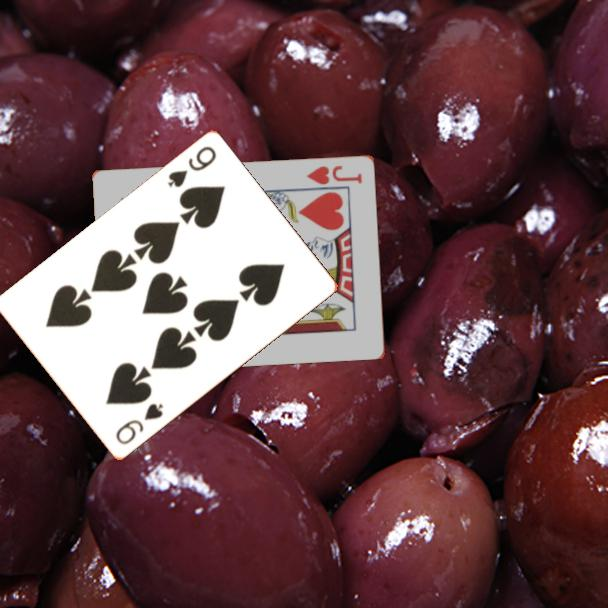h11: (303, 161, 365, 187)
s09: (164, 143, 219, 191), (112, 400, 166, 448)
